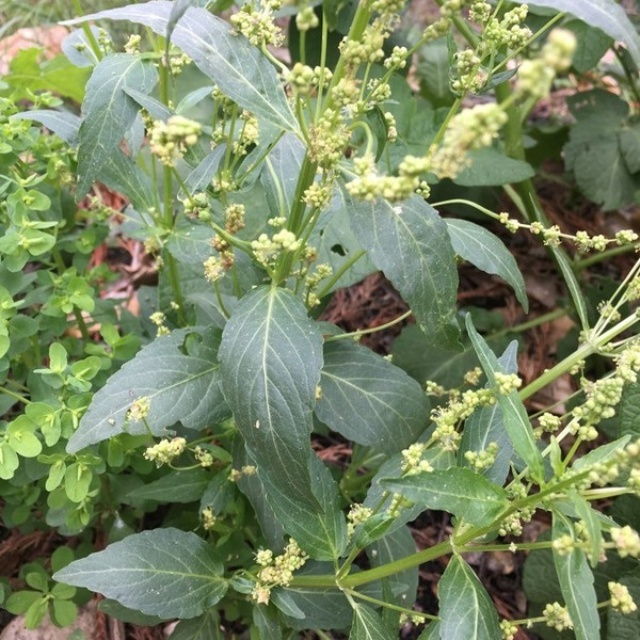obstacle: (74, 47, 620, 580)
